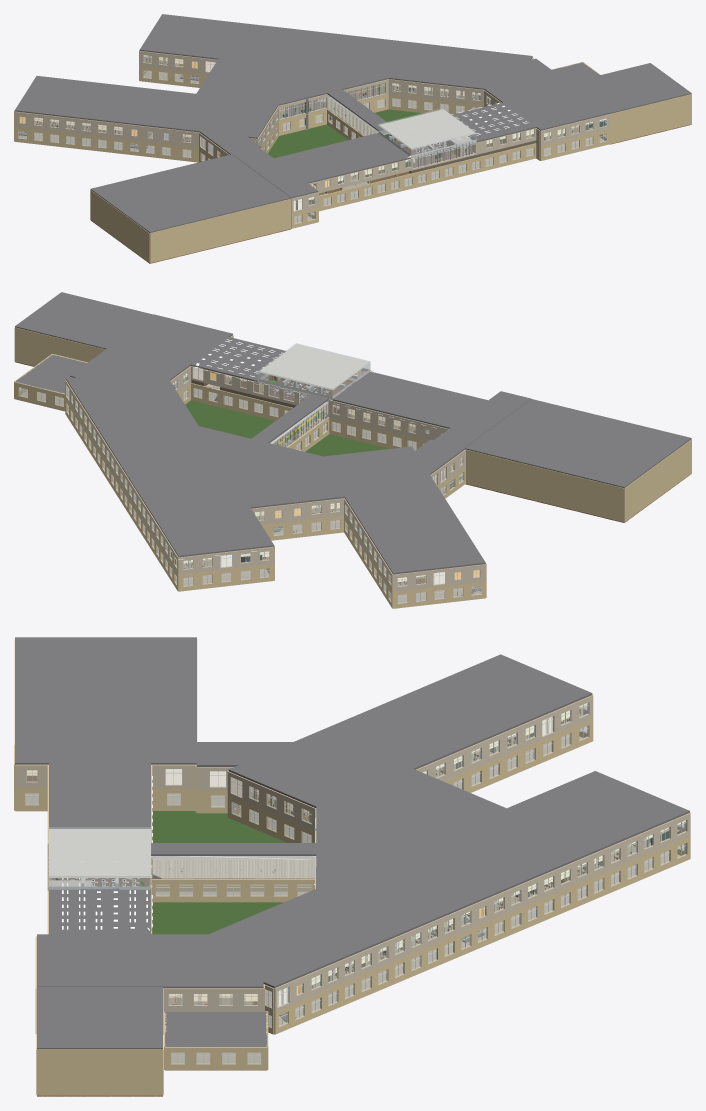
File: school.glb
3 views of the same model, one above another, from view 1: azimuth 30°, elevation 25°; view 2: azimuth 150°, elevation 25°; view 3: azimuth 270°, elevation 25° (orthographic). The views are drawn at different scales.
Parts seen in each view (by area): view 1: object 26, object 246; view 2: object 26, object 246; view 3: object 26, object 246.
Part boxes in pixels (box(x1,y1,x2,y2)): object 26: box(14, 14, 691, 263); object 246: box(14, 51, 610, 223); object 26: box(14, 292, 691, 608); object 246: box(19, 335, 485, 603); object 26: box(14, 637, 690, 1096); object 246: box(15, 695, 691, 1063).
Bounding box in the file's own units: 138 × 9.85 × 96.34.
131 materials, 28 textured.
